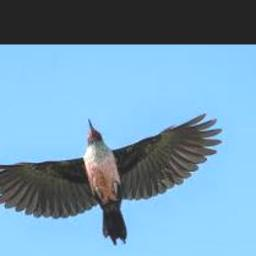Woodpecker: (0, 114, 222, 245)
